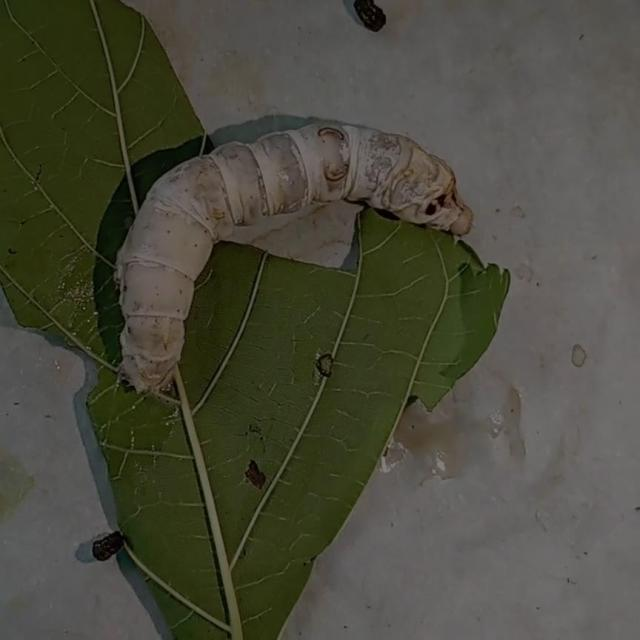Grasserie: (86, 95, 490, 407)
